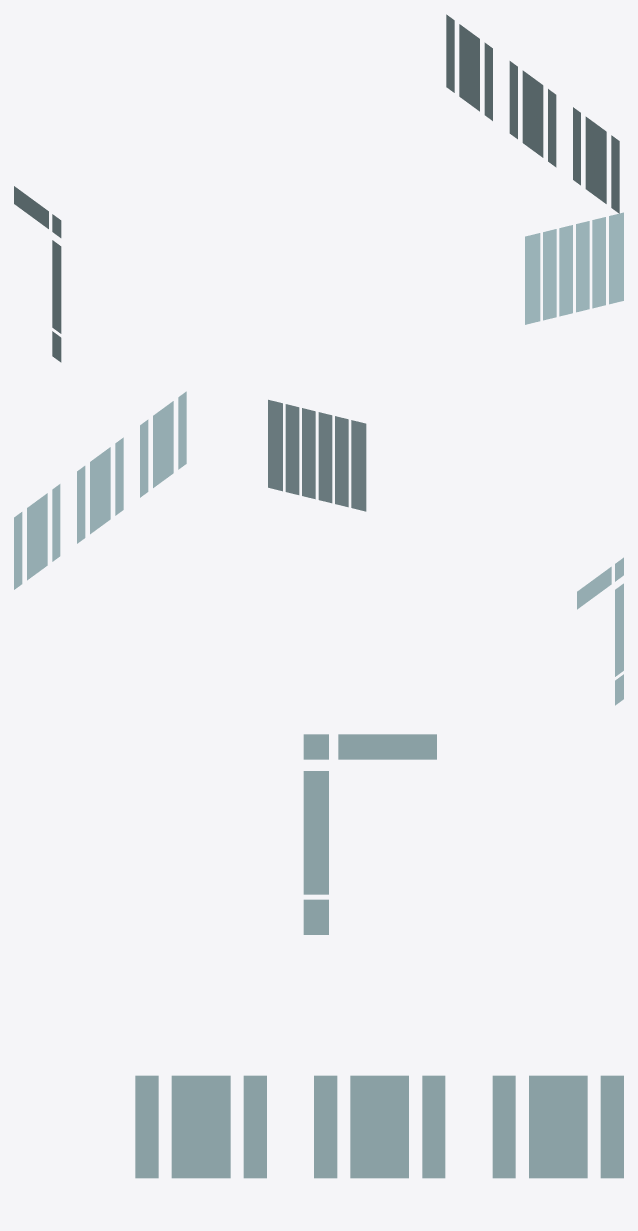
File: Windows.fbx
3 renders of one model, top to bottom at view 1: azimuth 30°, elevation 25°; view 2: azimuth 150°, elevation 25°; view 3: azimuth 270°, elevation 25°, orthographic. The views are drawn at different scales.
Visible parts, largest first — view 1: Cylinder.009; view 2: Cylinder.009; view 3: Cylinder.009.
Part boxes in pixels (left/top/right/bottom): Cylinder.009: left=14, top=14, right=623, bottom=362; Cylinder.009: left=14, top=391, right=623, bottom=705; Cylinder.009: left=135, top=734, right=623, bottom=1178.
Bounding box in the file's own units: 6.83 × 9.1 × 2.5.
